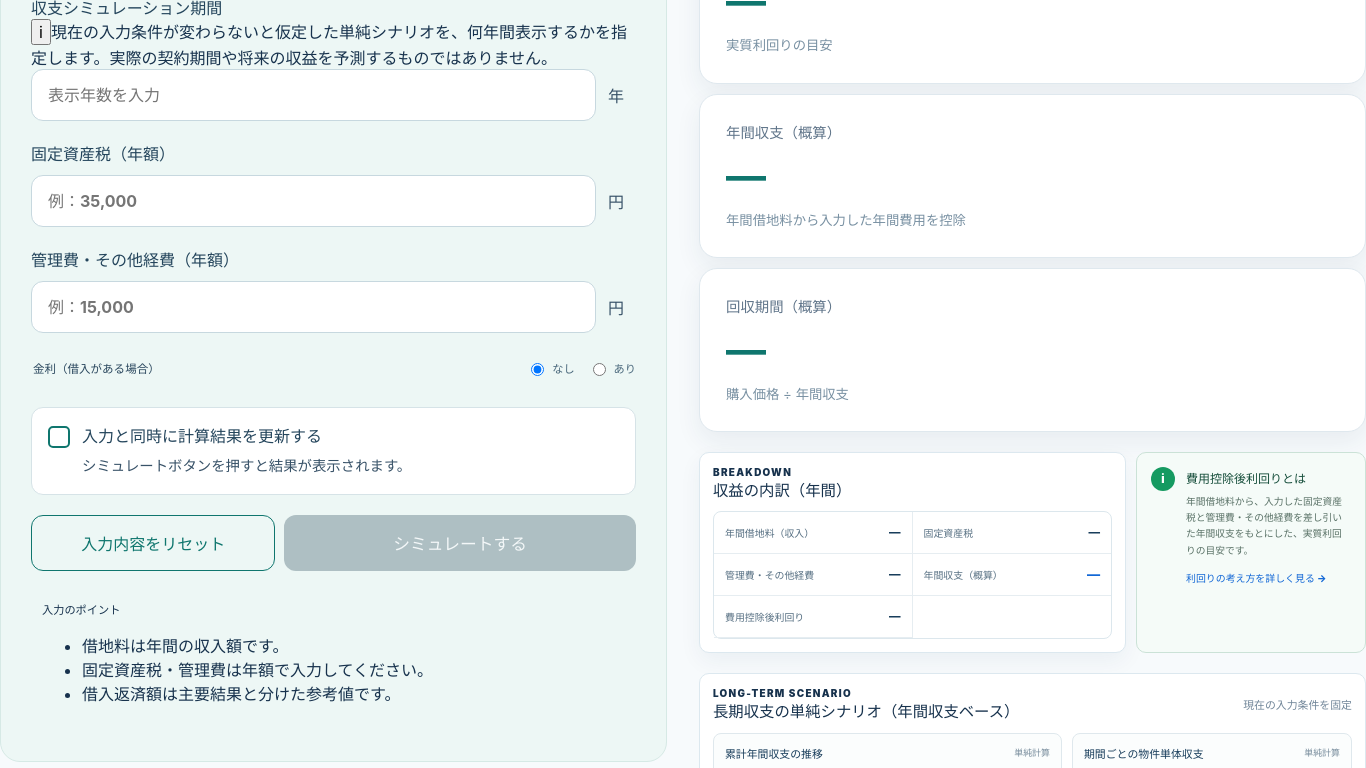
it: MilitaryLandCalculator result navigation › does not move the viewport while automatic calculation updates
The width and height of the screenshot is (1366, 768).
(page scrolled)
Click the checkbox labelled "入力と同時に計算結果を更新する" at (59, 437), box [48,426,70,448]
(page scrolled)
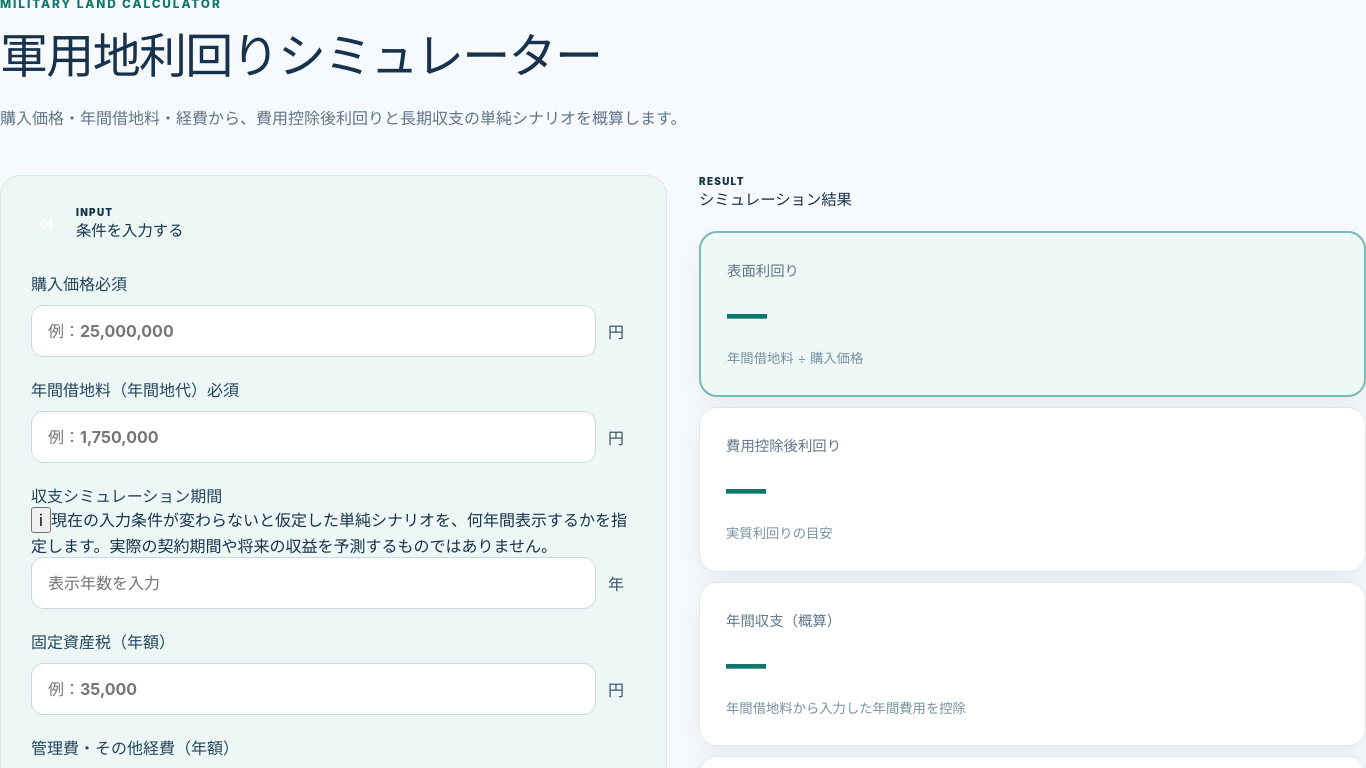
Type "300000" into the field labelled "年間借地料（年間地代）必須 円" at (314, 437), box [31,411,596,463]
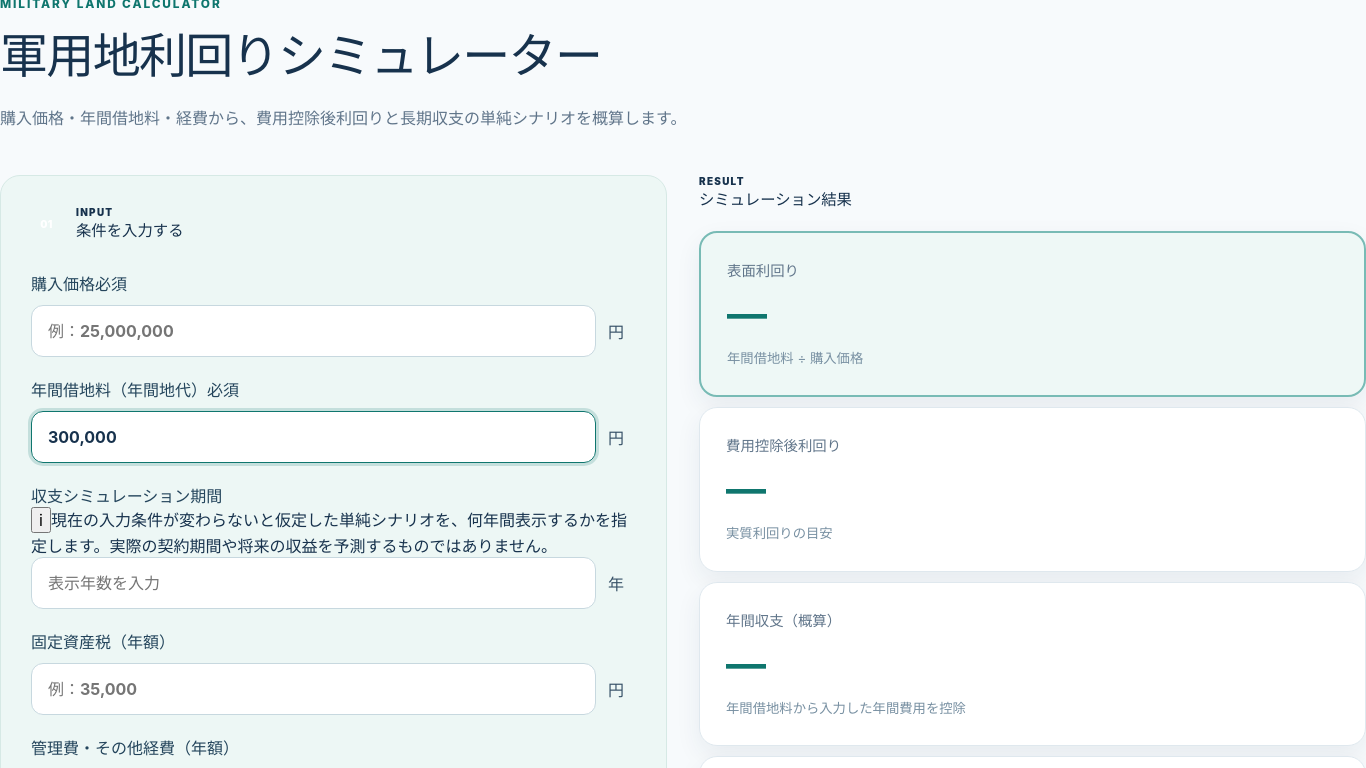
Type "15000000" into the field labelled "購入価格" at (314, 331), box [31,305,596,357]
(page scrolled)
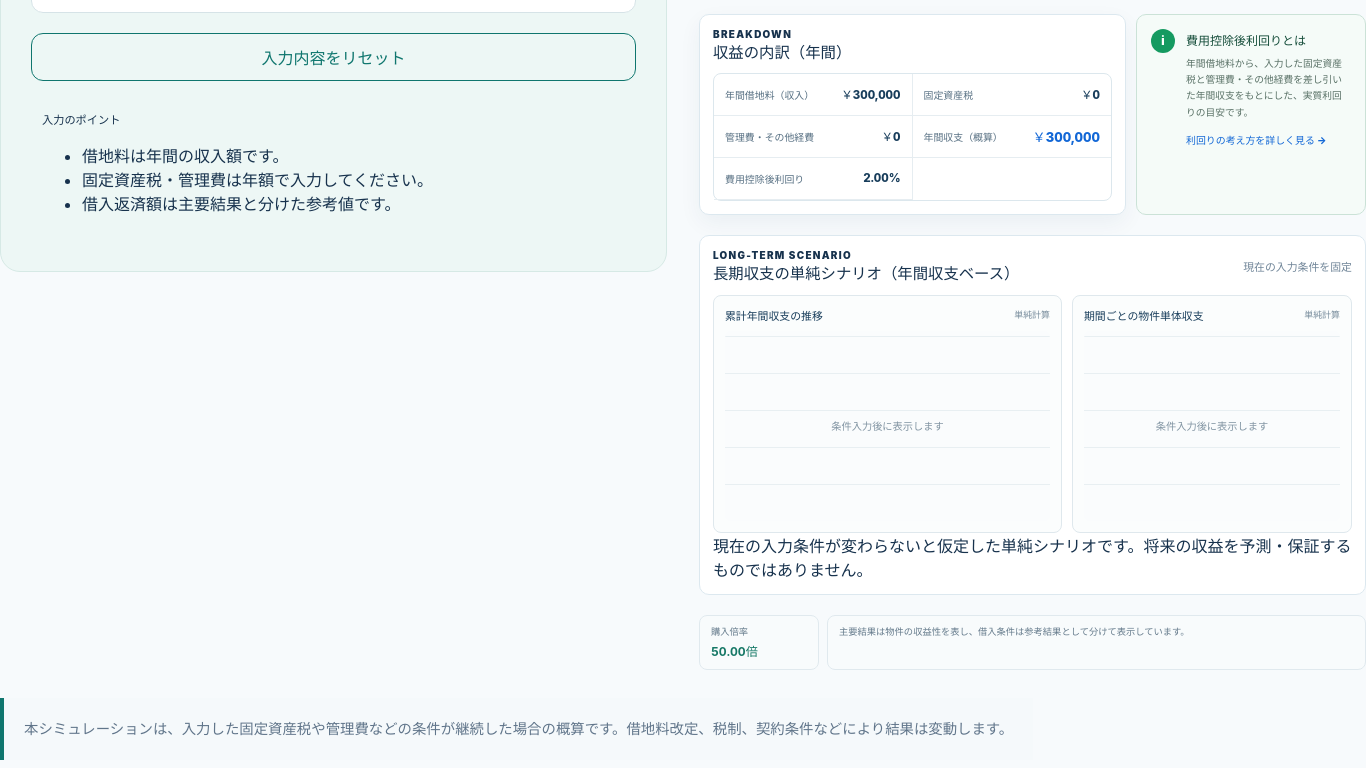
Check: the text "50.00倍" is shown, box [711,644,758,659]
